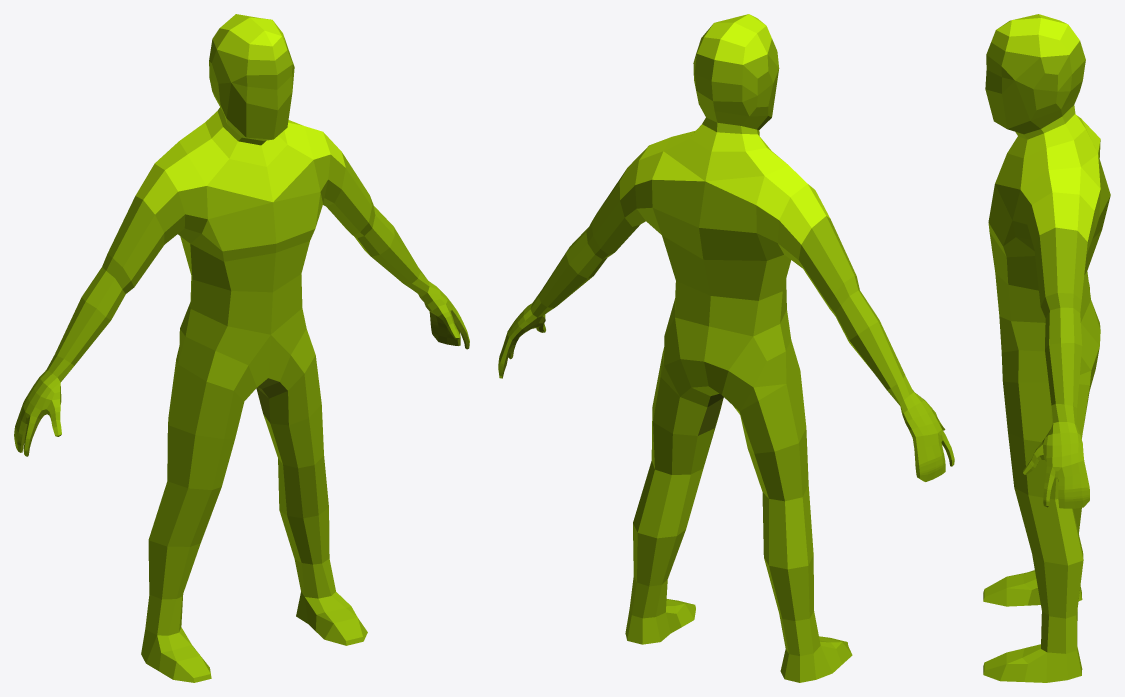
The model's file is mesh_character.fbx.
3 views of the same model, side by side, from view 1: azimuth 30°, elevation 25°; view 2: azimuth 150°, elevation 25°; view 3: azimuth 270°, elevation 25° (orthographic).
Visible parts, largest first — view 1: mesh_character; view 2: mesh_character; view 3: mesh_character.
Part boxes in pixels (x1,y1,x2,y2): mesh_character: (14,14,469,682); mesh_character: (498,14,954,682); mesh_character: (983,14,1110,682).
Size of the model in its own units: 1.39 by 1.86 by 0.3499.
